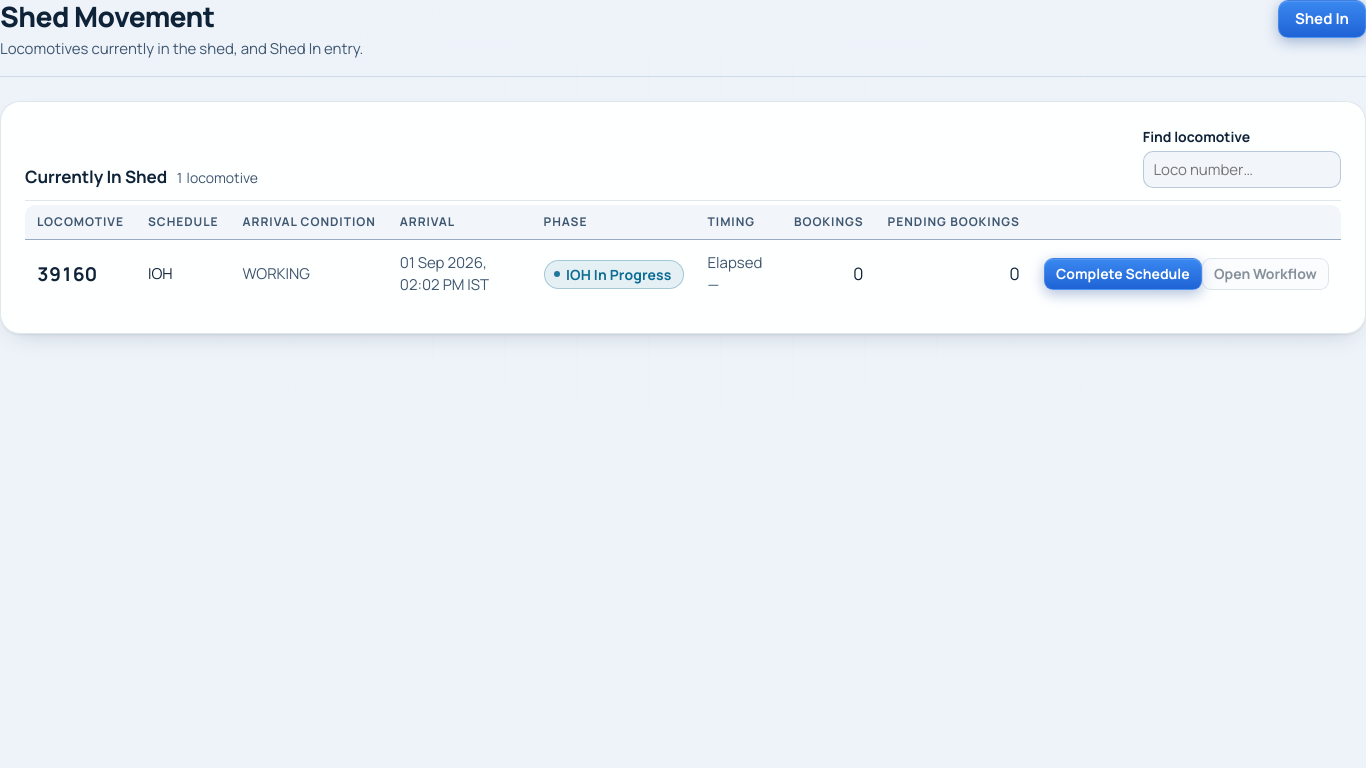
Test case: Shed lifecycle phases › Complete Schedule on a Major visit still goes straight to Ready
Click the button "Complete Schedule". click: (1123, 274)
box: [1044,258,1202,290]
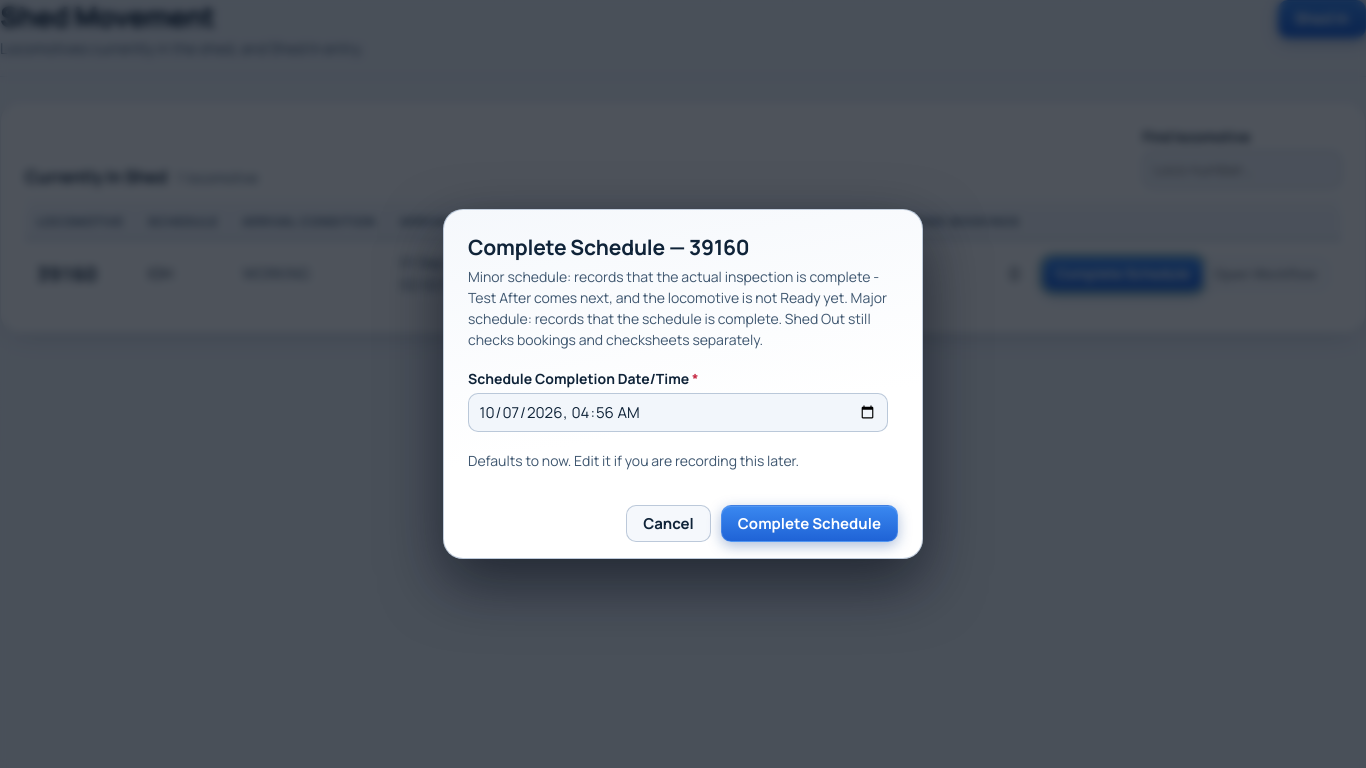
Click the button "Complete Schedule". click: (809, 523)
box: [721,505,898,542]
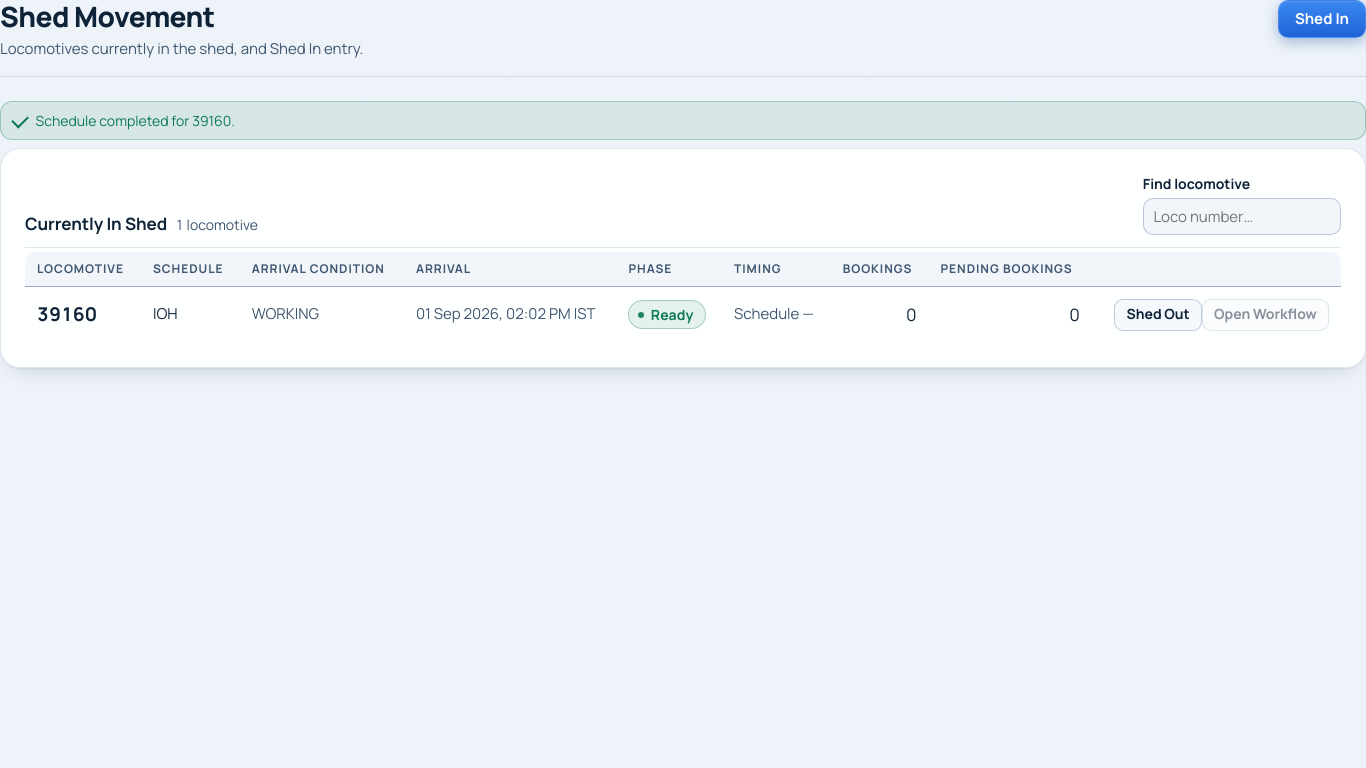
Expected: the dialog is gone
Expected: the text "Ready" is shown, [628,300,706,329]
